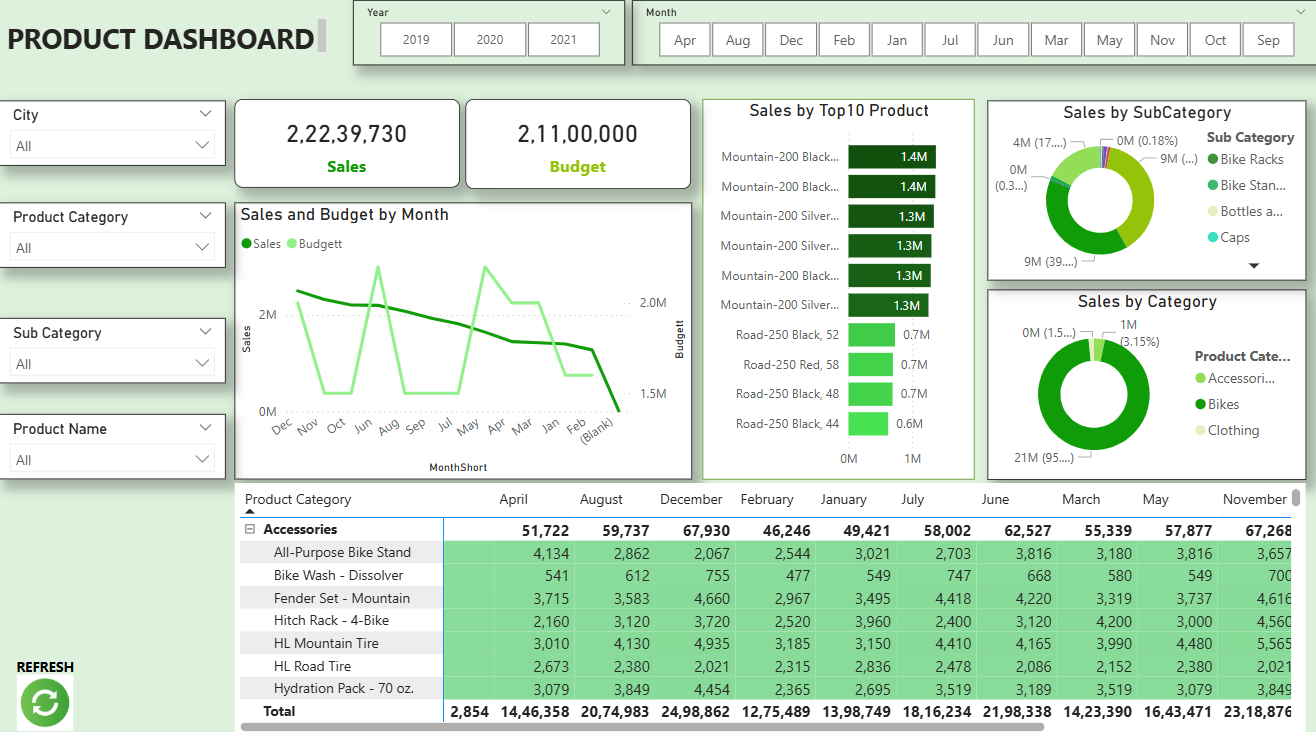

What the dashboard file says about the page in this screenshot:
{"tool":"powerbi","page":{"name":"PRODUCTS","canvas":[1280,720],"ordinal":1},"visuals":[{"type":"textbox","box":[0,19.4,322.2,43.7],"z":0},{"type":"slicer","fields":{"Values":["DIM_Calendar.Year"]},"box":[343.3,6.5,263.9,63.1],"z":1000},{"type":"slicer","fields":{"Values":["DIM_Calendar.MonthShort"]},"box":[613.7,6.5,667.1,63.1],"z":2000},{"type":"lineChart","title":"Sales and Budget by Month","fields":{"Category":["DIM_Calendar.MonthShort"],"Y":["Metrics.Sales"],"Y2":["Metrics.Budgett"]},"box":[228.3,202.4,443.7,268.8],"z":3000},{"type":"barChart","title":"Sales by Top10 Product","fields":{"Category":["DIM_Products.Product Name"],"Y":["Metrics.Sales"]},"box":[683.3,102,263.9,369.2],"z":4000},{"type":"donutChart","title":"Sales by Category","fields":{"Y":["Metrics.Sales"],"Series":["DIM_Products.Product Category"]},"box":[958.6,286.6,309.3,184.6],"z":5000},{"type":"donutChart","title":"Sales by SubCategory","fields":{"Y":["Metrics.Sales"],"Series":["DIM_Products.Sub Category"]},"box":[958.6,103.6,309.3,174.9],"z":6000},{"type":"slicer","fields":{"Values":["DIM_Customers.Customer City"]},"box":[0,103.6,220.2,63.1],"z":7000},{"type":"slicer","fields":{"Values":["DIM_Products.Product Category"]},"box":[0,202.4,220.2,63.1],"z":8000},{"type":"slicer","fields":{"Values":["DIM_Products.Sub Category"]},"box":[0,314.1,220.2,63.1],"z":9000},{"type":"slicer","fields":{"Values":["DIM_Products.Product Name"]},"box":[0,408,220.2,63.1],"z":10000},{"type":"card","fields":{"Values":["Metrics.Sales"]},"box":[228.3,102,218.6,85.8],"z":11000},{"type":"card","fields":{"Values":["Metrics.Budgett"]},"box":[453.4,102,218.6,87.4],"z":12000},{"type":"pivotTable","fields":{"Rows":["DIM_Products.Product Category","DIM_Products.Product Name"],"Columns":["DIM_Calendar.Month"],"Values":["Metrics.Sales"]},"box":[228.3,474.4,1039.5,246.1],"z":13000},{"type":"image","box":[0,655.2,89.1,64.8],"z":14000},{"type":"textbox","box":[11.3,638,77.7,34],"z":15000}]}

Visuals, with their boxes in screenshot pixels (x1, y1, x2, y2), scaled from the page's 1280x720 canvas onto the 1316x732 screenshot:
textbox: box=[0, 20, 331, 64]
slicer - DIM_Calendar.Year: box=[353, 7, 624, 71]
slicer - DIM_Calendar.MonthShort: box=[631, 7, 1315, 71]
"Sales and Budget by Month" lineChart: box=[235, 206, 691, 479]
"Sales by Top10 Product" barChart: box=[703, 104, 974, 479]
"Sales by Category" donutChart: box=[986, 291, 1304, 479]
"Sales by SubCategory" donutChart: box=[986, 105, 1304, 283]
slicer - DIM_Customers.Customer City: box=[0, 105, 226, 169]
slicer - DIM_Products.Product Category: box=[0, 206, 226, 270]
slicer - DIM_Products.Sub Category: box=[0, 319, 226, 383]
slicer - DIM_Products.Product Name: box=[0, 415, 226, 479]
card - Metrics.Sales: box=[235, 104, 459, 191]
card - Metrics.Budgett: box=[466, 104, 691, 193]
pivotTable - DIM_Products.Product Category x DIM_Products.Product Name: box=[235, 482, 1303, 731]
image: box=[0, 666, 92, 731]
textbox: box=[12, 649, 92, 683]
